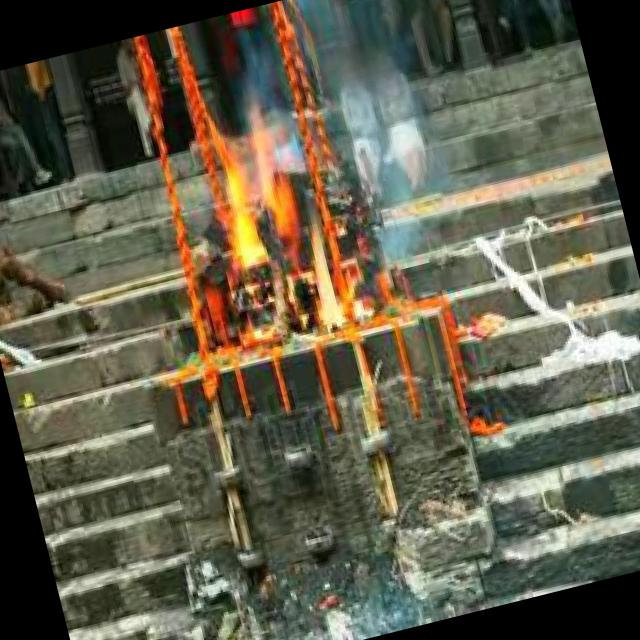Smoke: (198, 82, 366, 349)
